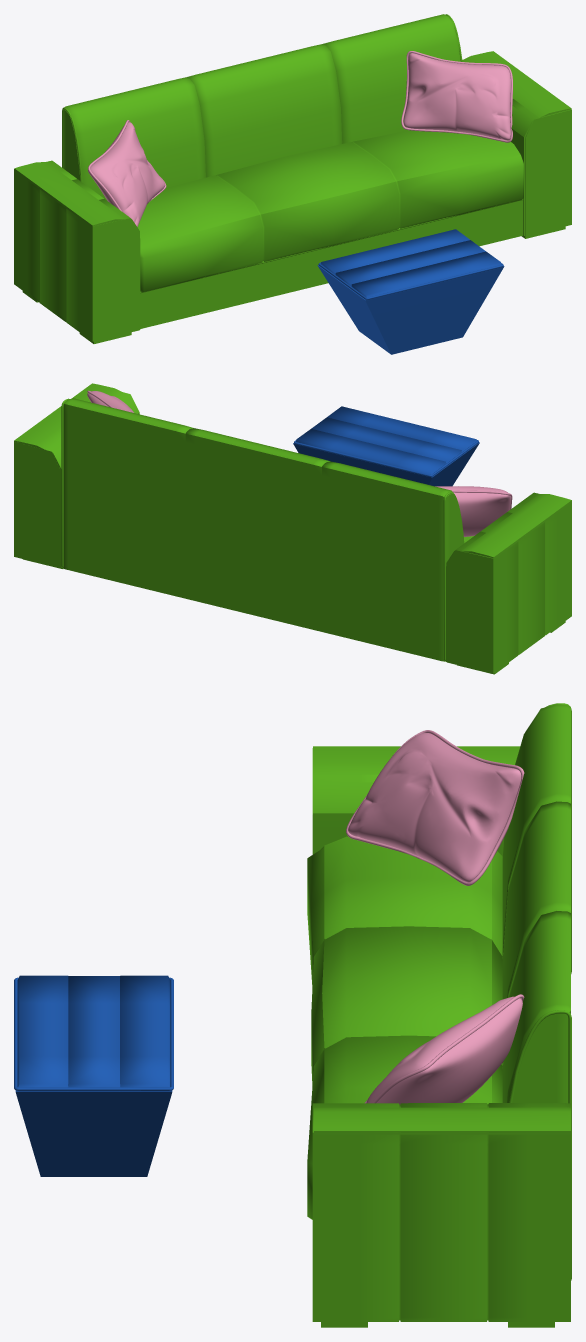
File: Sofa_OBJ.obj
3 renders of one model, top to bottom at view 1: azimuth 30°, elevation 25°; view 2: azimuth 150°, elevation 25°; view 3: azimuth 270°, elevation 25°, orthographic. The views are drawn at different scales.
Parts seen in each view (by area): view 1: Sofa, Footstool, Pillow02, Pillow01; view 2: Sofa, Footstool, Pillow01, Pillow02; view 3: Sofa, Footstool, Pillow01, Pillow02.
Part boxes in pixels (box(x1,y1,x2,y2)): Sofa: box(14, 14, 571, 343); Footstool: box(317, 229, 504, 354); Pillow02: box(401, 51, 512, 142); Pillow01: box(88, 120, 166, 226); Sofa: box(14, 383, 571, 674); Footstool: box(293, 406, 479, 486); Pillow01: box(435, 486, 512, 536); Pillow02: box(87, 390, 133, 412); Sofa: box(307, 703, 571, 1327); Footstool: box(14, 975, 173, 1176); Pillow01: box(346, 730, 524, 885); Pillow02: box(364, 994, 524, 1104).
Size of the model in its own units: 514 by 176 by 315.
